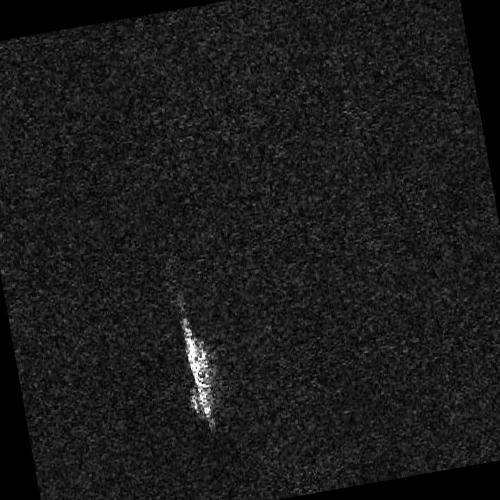ship: (181, 318, 211, 423)
